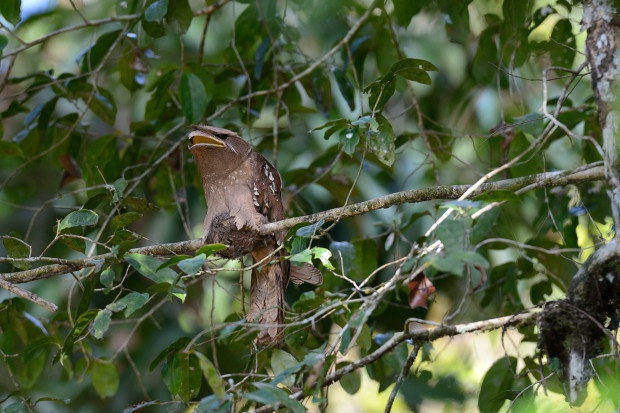bird: (172, 104, 338, 359)
